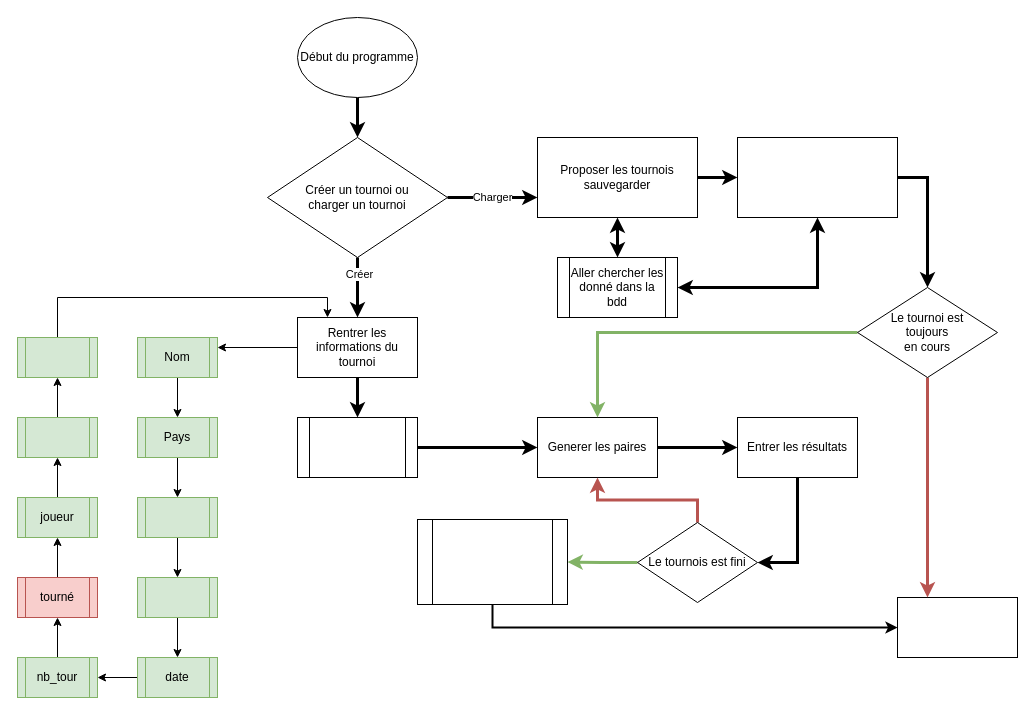
The diagram is 1035 pixels wide and 715 high, and some of its shapes have lost their labels. The shapes that lost their labels are listed below. From the top down, each one's centre as x and y in pixels, then its label:
the point at 817,177: Charger les informations du tournoi choisi
the point at 57,357: description
the point at 57,437: temps
the point at 357,447: Ajouter les 8 joueurs
the point at 177,517: Ville
the point at 492,561: Enregistrer les résultats du tournoi dans la base de donnée
the point at 177,597: batiment
the point at 957,627: Afficher le récapitulatif du tournoi
